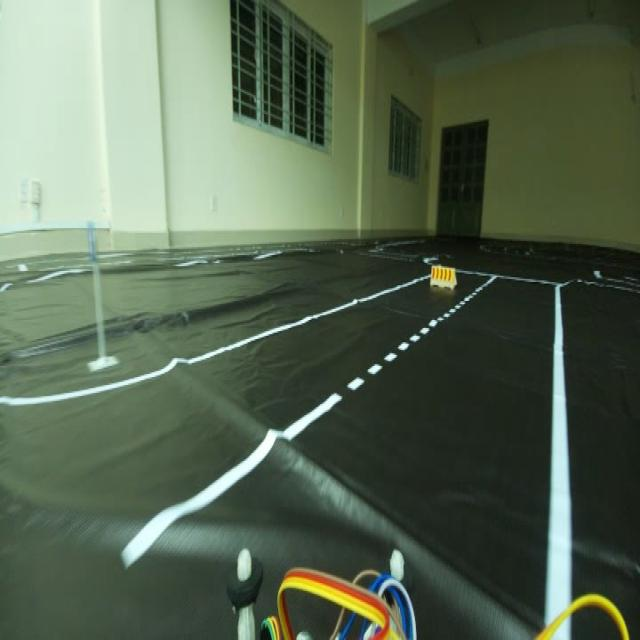onewayroad: (82, 217, 100, 263)
roadblock: (427, 255, 458, 293)
